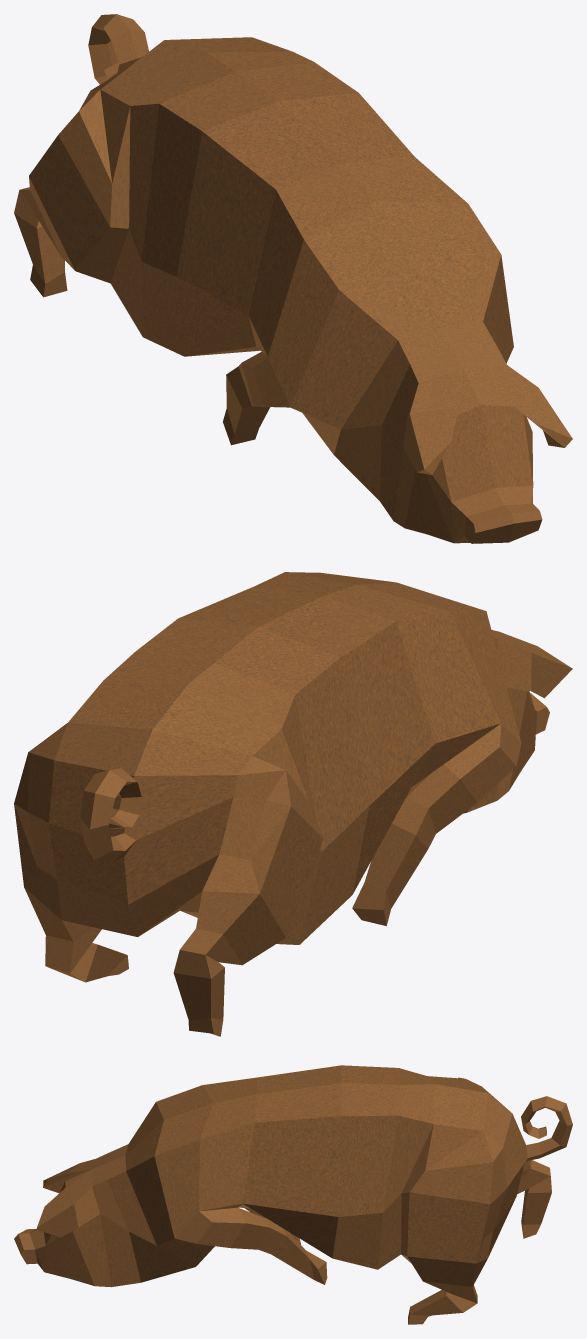
The model's file is Pig_000002.obj.
The picture shows the model from 3 angles, top to bottom: view 1: azimuth 30°, elevation 25°; view 2: azimuth 150°, elevation 25°; view 3: azimuth 270°, elevation 25°; orthographic projection. The views are drawn at different scales.
Visible parts, largest first — view 1: Pig_Cylinder; view 2: Pig_Cylinder; view 3: Pig_Cylinder.
Part boxes in pixels (left/top/right/bottom): Pig_Cylinder: left=14, top=14, right=572, bottom=543; Pig_Cylinder: left=14, top=572, right=572, bottom=1036; Pig_Cylinder: left=14, top=1065, right=572, bottom=1324.
Size of the model in its own units: 3.39 by 3.93 by 9.51.
1 material, 1 textured.
